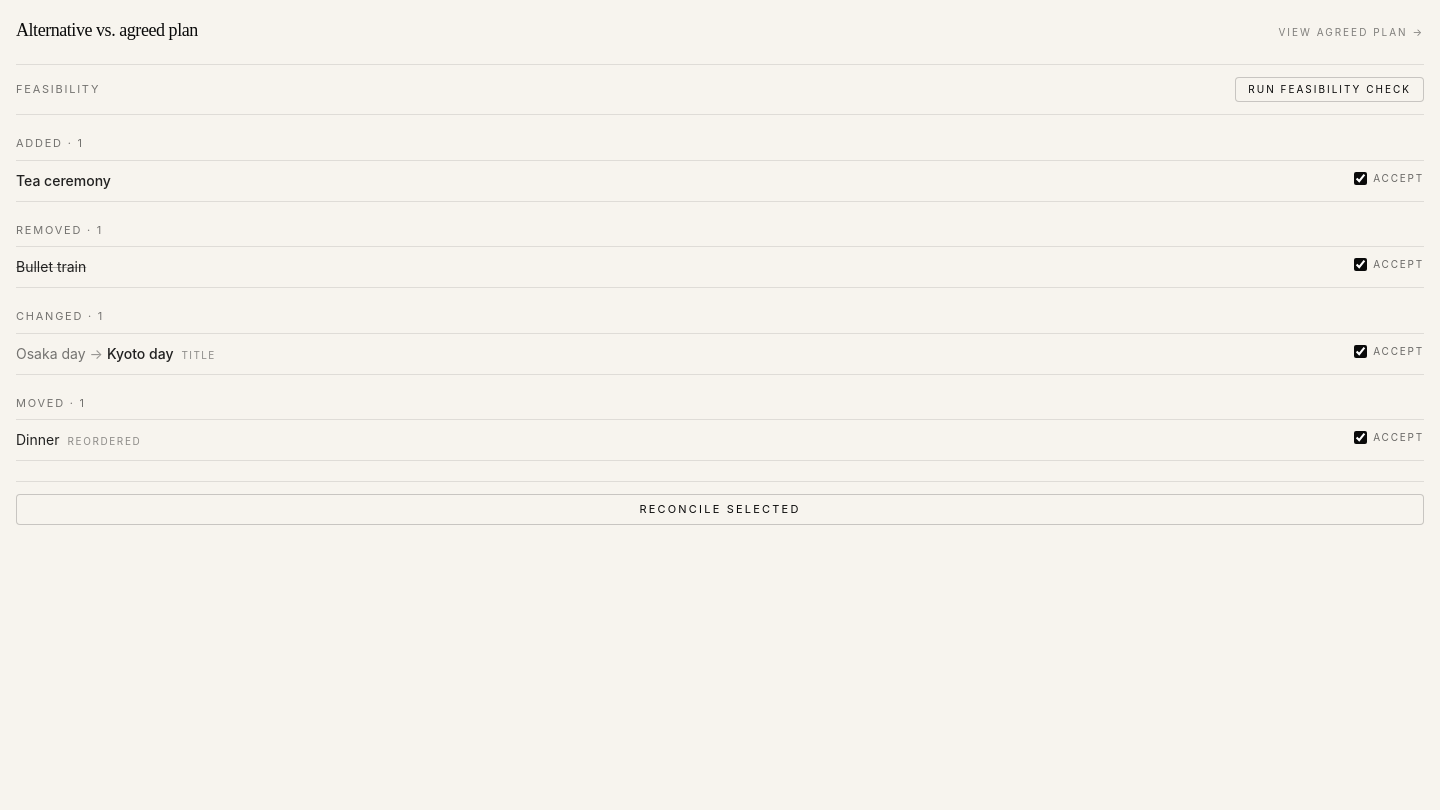
Test: renders per-change outcomes incl. a booked 'kept' row
The width and height of the screenshot is (1440, 810).
Click the button with test id "diff-reconcile" at (720, 509), box [16,494,1424,524]
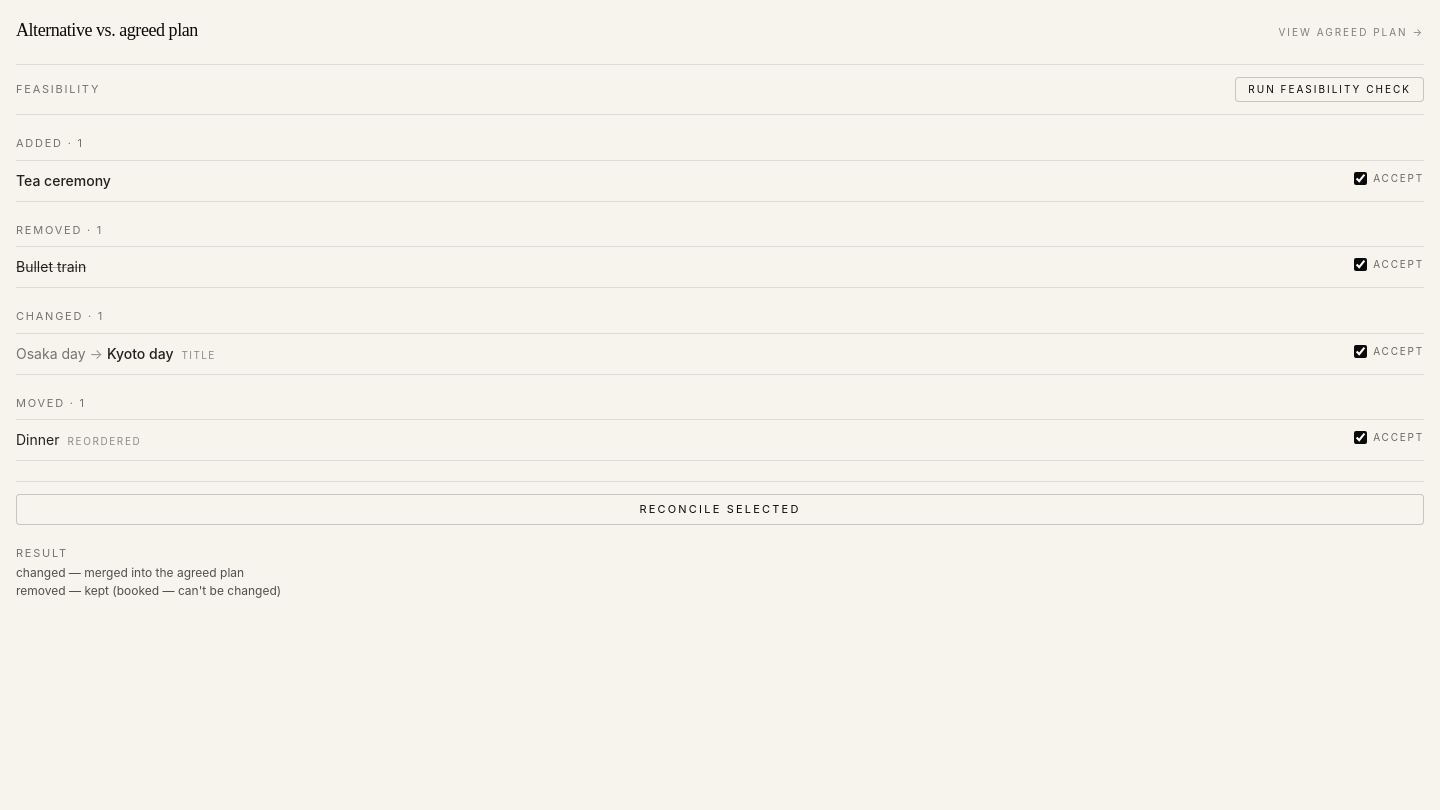
Now the element with test id "diff-outcomes" shows "merged into the agreed plan", box [84,565,244,580]
Now the element with test id "diff-outcomes" shows "kept (booked", box [84,583,281,598]
